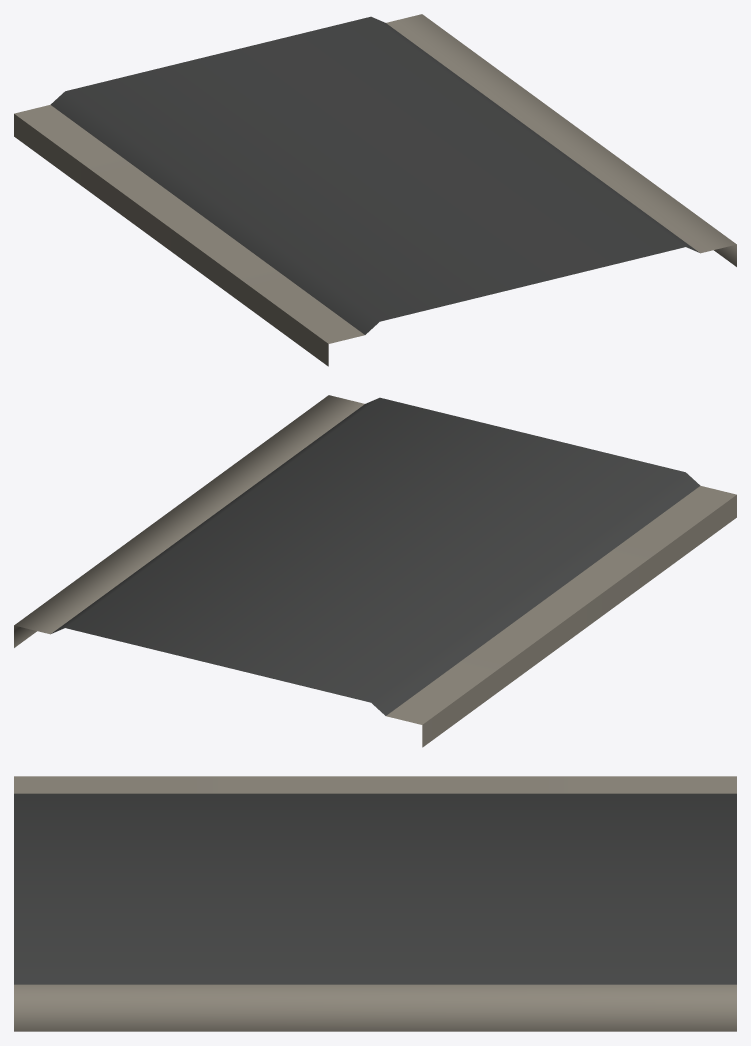
Rendered from RoadMid_1_D.glb.
3 renders of one model, top to bottom at view 1: azimuth 30°, elevation 25°; view 2: azimuth 150°, elevation 25°; view 3: azimuth 270°, elevation 25°, orthographic. The views are drawn at different scales.
Parts seen in each view (by area): view 1: RoadMid_1_D; view 2: RoadMid_1_D; view 3: RoadMid_1_D.
Boxes of the visible parts, x1,y1,x2,y2 form: RoadMid_1_D: (14,14,736,366); RoadMid_1_D: (14,395,736,747); RoadMid_1_D: (14,776,736,1031).
Bounding box in the file's own units: 2.99 × 0.2296 × 4.
1 material, 1 textured.
